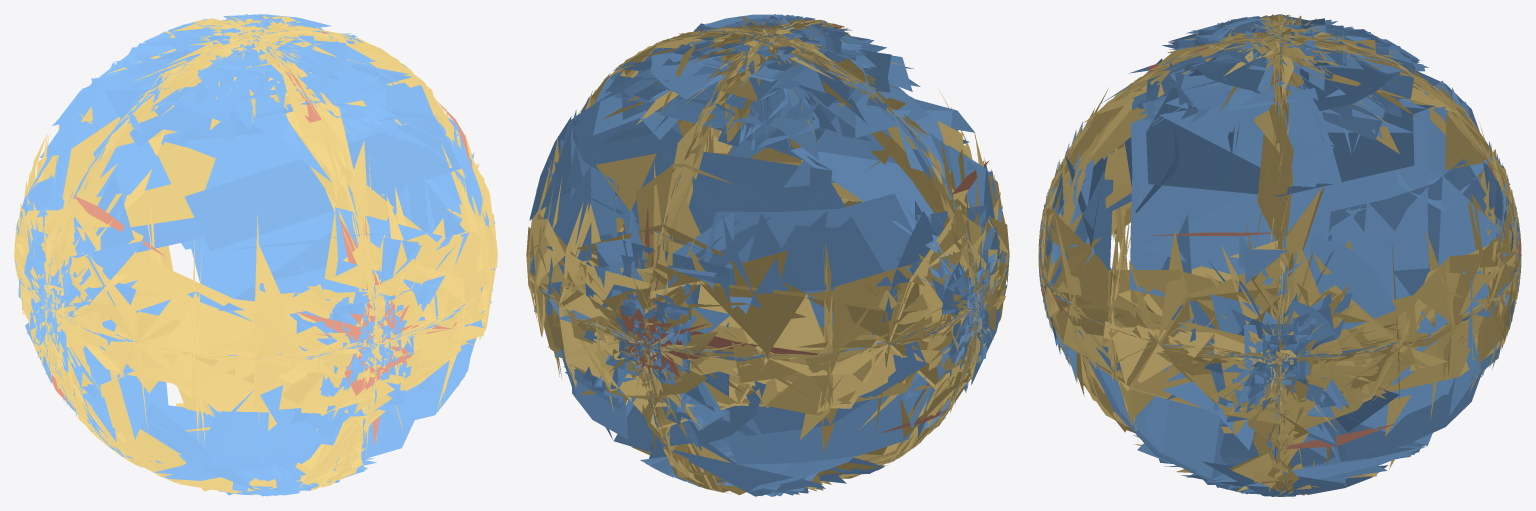
File: stage7.glb
3 views of the same model, side by side, from view 1: azimuth 30°, elevation 25°; view 2: azimuth 150°, elevation 25°; view 3: azimuth 270°, elevation 25° (orthographic).
Visible parts, largest first — view 1: ehouse-7-hvac, ehouse-7-e_i, ehouse-7-telecom; view 2: ehouse-7-hvac, ehouse-7-e_i, ehouse-7-telecom; view 3: ehouse-7-hvac, ehouse-7-e_i, ehouse-7-telecom.
Part boxes in pixels (box(x1,y1,x2,y2)): ehouse-7-hvac: box(15, 14, 495, 496); ehouse-7-e_i: box(14, 15, 497, 495); ehouse-7-telecom: box(51, 31, 486, 447); ehouse-7-hvac: box(529, 14, 1009, 496); ehouse-7-e_i: box(526, 15, 1009, 495); ehouse-7-telecom: box(548, 19, 989, 488); ehouse-7-hvac: box(1038, 14, 1521, 496); ehouse-7-e_i: box(1038, 14, 1521, 496); ehouse-7-telecom: box(1038, 15, 1521, 449).
Bounding box in the file's own units: 2 × 2 × 2.
